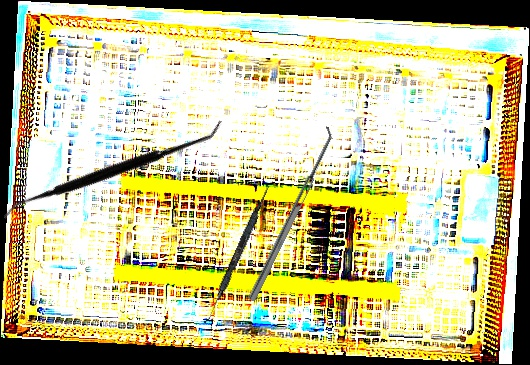Spatula Surgical: (0, 49, 224, 289), (241, 125, 338, 302), (203, 183, 272, 326)
